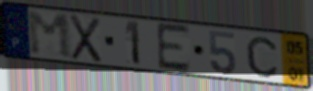1: (124, 19, 142, 68)
5: (208, 29, 238, 76)
C: (244, 35, 280, 80)
E: (154, 21, 192, 74)
M: (24, 10, 75, 61)
X: (68, 12, 103, 65)
